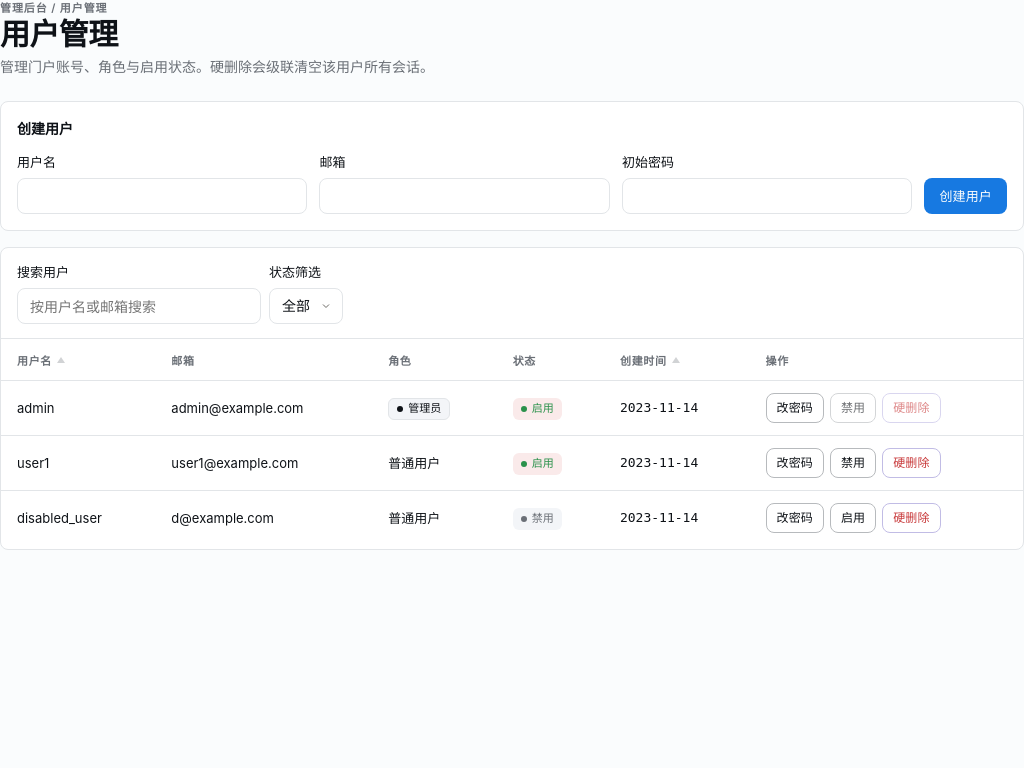
UsersAdminPage › 硬删除用户 — 统一弹窗确认后调 DELETE
Click the button "硬删除" in the row of "user1@example.com" at (911, 463), box x1=882 y1=448 x2=941 y2=478
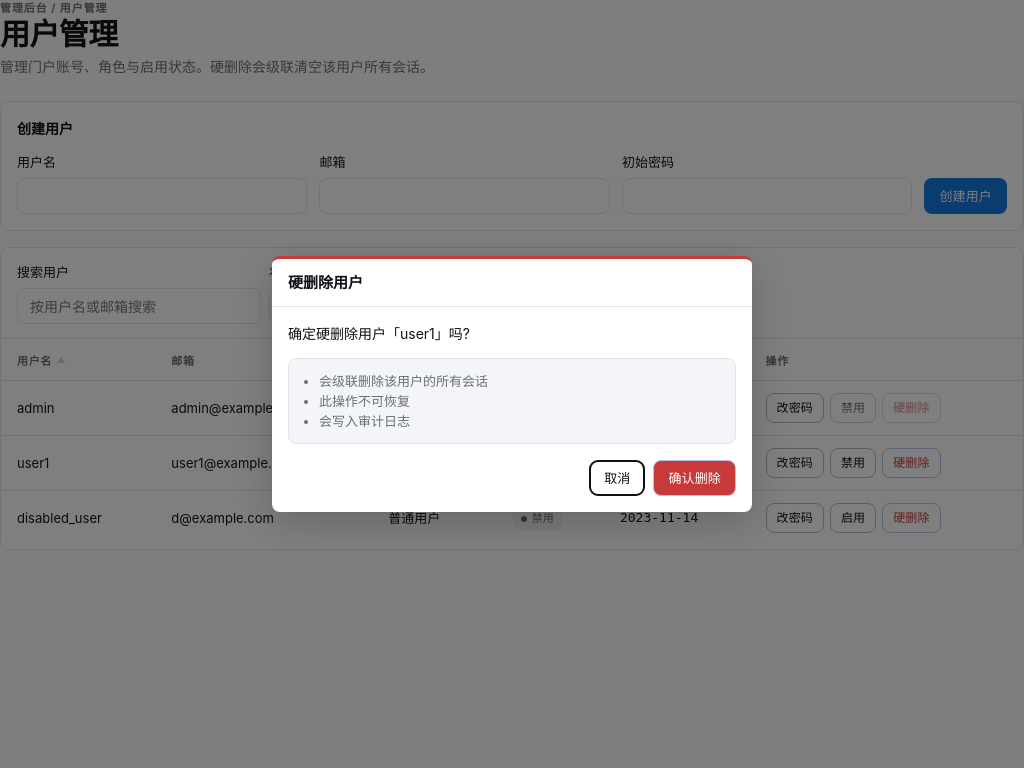
Result: the list item "会级联删除该用户的所有会话" is shown at x1=319 y1=373 x2=488 y2=389
Result: the list item "此操作不可恢复" is shown at x1=319 y1=393 x2=410 y2=409
Click the button "确认删除" at (695, 478), box x1=654 y1=460 x2=736 y2=496
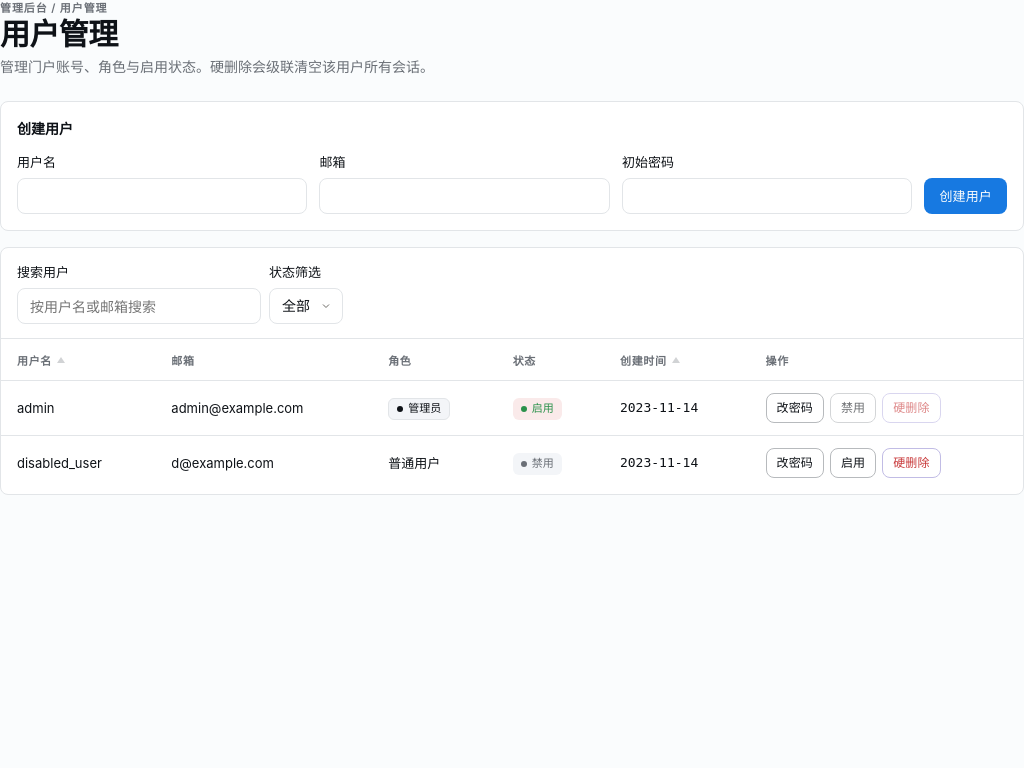
Expected: the heading "用户管理" is shown, x1=0 y1=16 x2=118 y2=52
Result: the row with test id "user-row-u_user1" is gone
